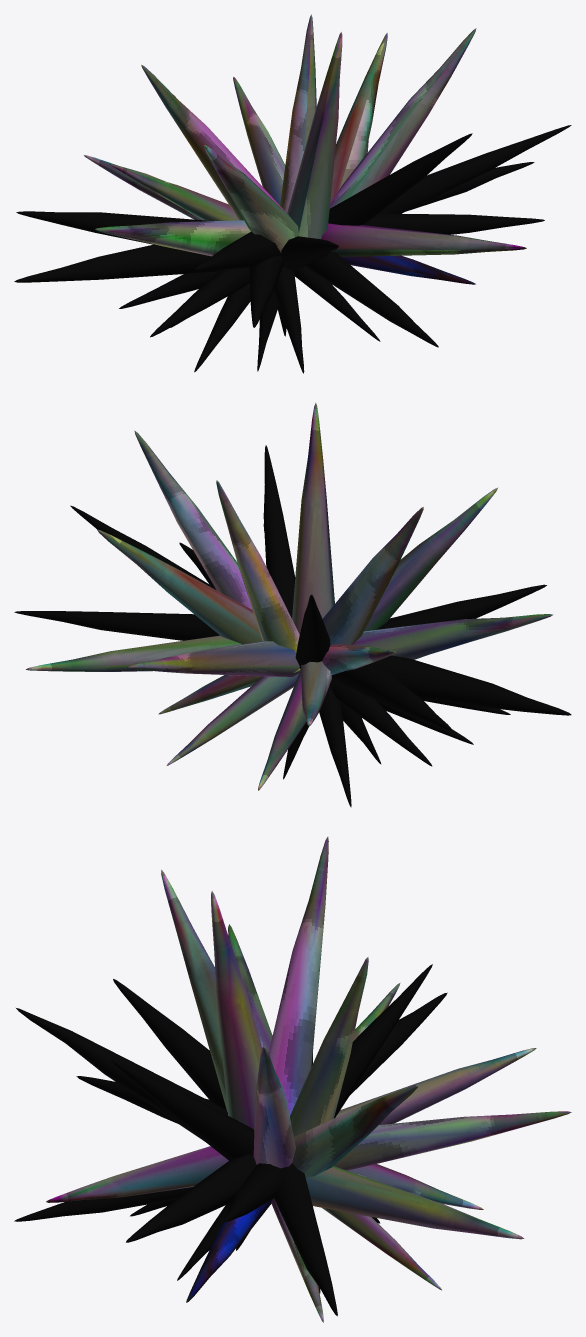
File: ItemsMode_01_Items_Spikes_01.glb
The picture shows the model from 3 angles, top to bottom: view 1: azimuth 30°, elevation 25°; view 2: azimuth 150°, elevation 25°; view 3: azimuth 270°, elevation 25°; orthographic projection. The views are drawn at different scales.
Visible parts, largest first — view 1: Items_Spikes_01; view 2: Items_Spikes_01; view 3: Items_Spikes_01.
Boxes of the visible parts, box(x1,y1,x2,y2) form: Items_Spikes_01: box(14, 14, 571, 373); Items_Spikes_01: box(14, 402, 571, 807); Items_Spikes_01: box(14, 837, 571, 1322).
Bounding box in the file's own units: 1.56 × 0.937 × 1.15.
1 material, 1 textured.
